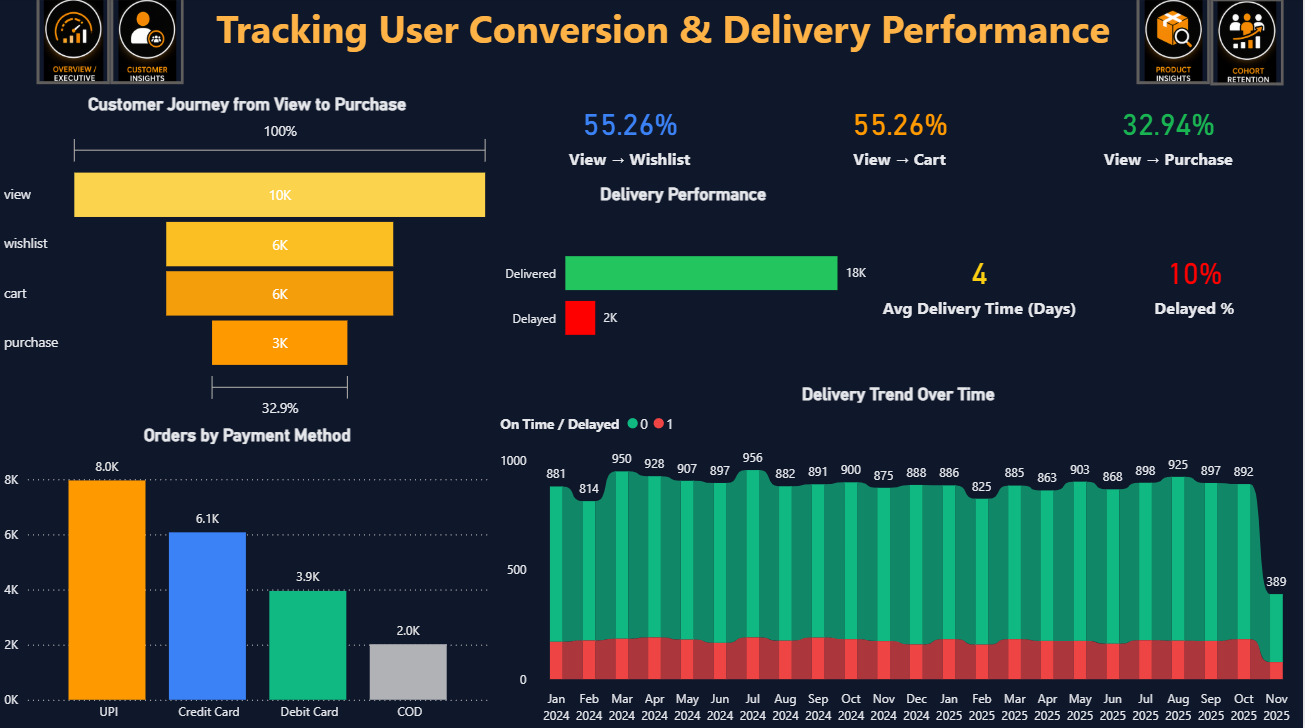

The page's visual inventory and layout, read from the dashboard file:
{"tool":"powerbi","page":{"name":"Track & Delivery Performance","canvas":[1280,720],"ordinal":4},"visuals":[{"type":"textbox","box":[203.9,0,896.4,77.2],"z":0},{"type":"funnel","title":"Customer Journey from View to Purchase","fields":{"Category":["funnel_data.Stage_Label_New"],"Y":["funnel_data.Funnel Users"]},"box":[0,94.1,487.4,325.7],"z":1000},{"type":"card","fields":{"Values":["All Measures Table.Conv_View_to_Wishlist"]},"box":[487.4,96.5,264.2,74.8],"z":2000},{"type":"card","fields":{"Values":["All Measures Table.Conv_View_to_Cart"]},"box":[751.6,96.5,264.2,74.8],"z":3000},{"type":"card","fields":{"Values":["All Measures Table.Conv_View_to_Purchase"]},"box":[1015.8,96.5,264.2,74.8],"z":4000},{"type":"barChart","title":"Delivery Performance","fields":{"Category":["fact_sales.delivery_status"],"Y":["All Measures Table.Total Orders"]},"box":[487.4,183.4,369.2,195.4],"z":5000},{"type":"card","fields":{"Values":["All Measures Table.Avg Delivery Days"]},"box":[856.6,183.4,212.3,195.4],"z":6000},{"type":"card","fields":{"Values":["All Measures Table.Delayed %"]},"box":[1068.9,183.4,209.9,195.4],"z":7000},{"type":"columnChart","title":"Orders by Payment Method ","fields":{"Category":["fact_sales.payment_method"],"Y":["All Measures Table.Total Orders"]},"box":[0,419.8,487.4,300.4],"z":8000},{"type":"ribbonChart","title":"Delivery Trend Over Time","fields":{"Category":["fact_sales.order_month_NEW"],"Series":["fact_sales.delayed"],"Y":["All Measures Table.Total Orders"]},"box":[487.4,378.8,791.4,341.4],"z":9000},{"type":"image","box":[36.9,0,72.4,85.7],"z":10000},{"type":"image","box":[109.3,0,72.4,85.7],"z":11000},{"type":"image","box":[1189.6,1.2,72.4,85.7],"z":12000},{"type":"image","box":[1117.2,0,72.4,85.7],"z":13000},{"type":"actionButton","box":[37.4,0,72.4,85.7],"z":14000},{"type":"actionButton","box":[109.8,0,72.4,85.7],"z":15000},{"type":"actionButton","box":[1117.2,0,72.4,85.7],"z":16000},{"type":"actionButton","box":[1189.6,1.2,72.4,85.7],"z":17000}]}

Visuals, with their boxes in screenshot pixels (x1, y1, x2, y2), scaled from the page's 1280x720 canvas onto the 1305x728 screenshot:
textbox: Rect(208, 0, 1122, 78)
"Customer Journey from View to Purchase" funnel: Rect(0, 95, 497, 424)
card - All Measures Table.Conv_View_to_Wishlist: Rect(497, 98, 766, 173)
card - All Measures Table.Conv_View_to_Cart: Rect(766, 98, 1036, 173)
card - All Measures Table.Conv_View_to_Purchase: Rect(1036, 98, 1304, 173)
"Delivery Performance" barChart: Rect(497, 185, 873, 383)
card - All Measures Table.Avg Delivery Days: Rect(873, 185, 1090, 383)
card - All Measures Table.Delayed %: Rect(1090, 185, 1304, 383)
"Orders by Payment Method " columnChart: Rect(0, 424, 497, 727)
"Delivery Trend Over Time" ribbonChart: Rect(497, 383, 1304, 727)
image: Rect(38, 0, 111, 87)
image: Rect(111, 0, 185, 87)
image: Rect(1213, 1, 1287, 88)
image: Rect(1139, 0, 1213, 87)
actionButton: Rect(38, 0, 112, 87)
actionButton: Rect(112, 0, 186, 87)
actionButton: Rect(1139, 0, 1213, 87)
actionButton: Rect(1213, 1, 1287, 88)
